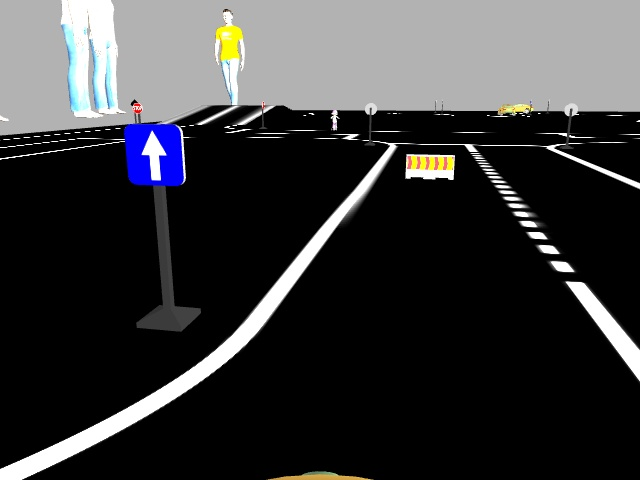ClosedRoadStand: (406, 154, 453, 179)
OneWay: (127, 125, 186, 184)
